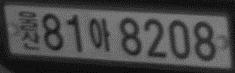0: (168, 19, 192, 60)
1: (65, 13, 87, 52)
2: (143, 17, 167, 58)
8: (119, 16, 142, 56), (193, 21, 216, 61), (41, 12, 64, 50)
아: (88, 17, 111, 52)
울산_V: (18, 10, 39, 50)
